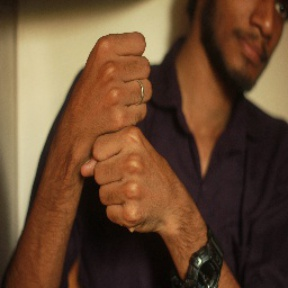G: (49, 24, 184, 235)
